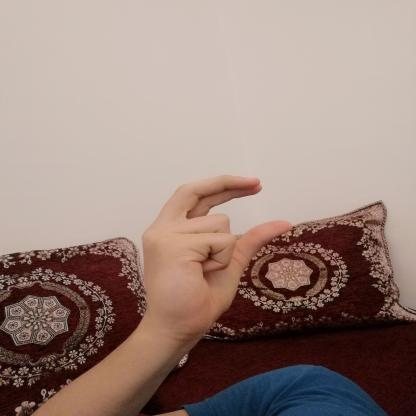DHELL: (129, 165, 302, 333)
